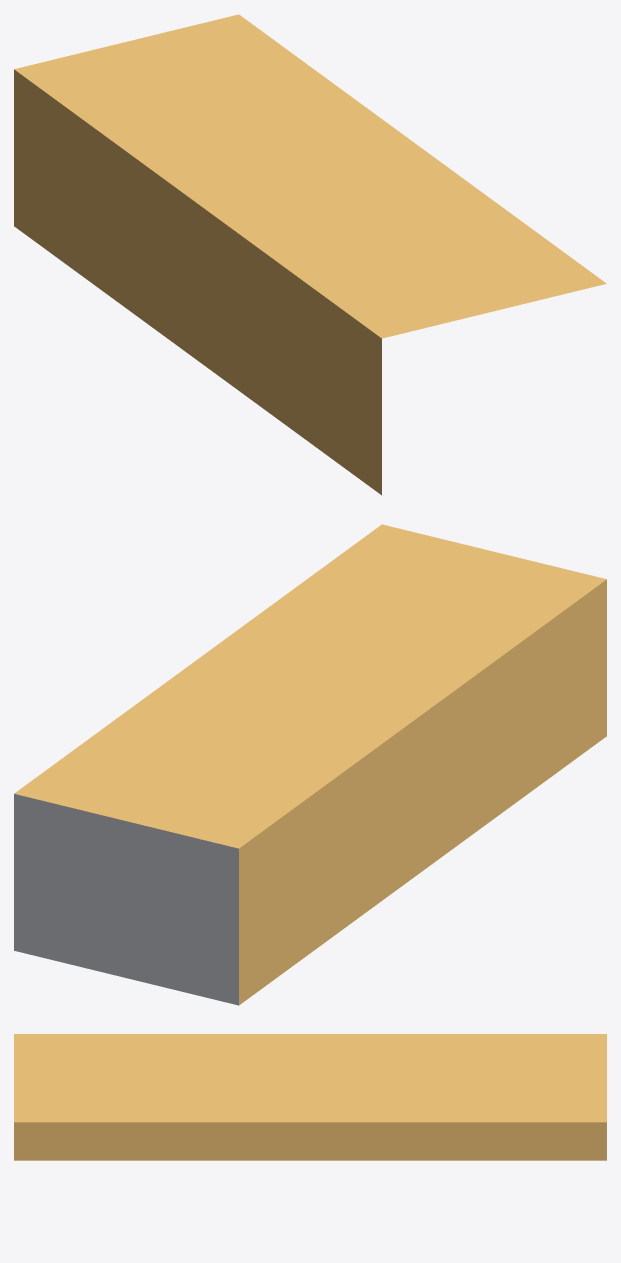
3 renders of one model, top to bottom at view 1: azimuth 30°, elevation 25°; view 2: azimuth 150°, elevation 25°; view 3: azimuth 270°, elevation 25°, orthographic. The views are drawn at different scales.
Bounding box in the file's own units: 0.3 × 0.2 × 0.85.
